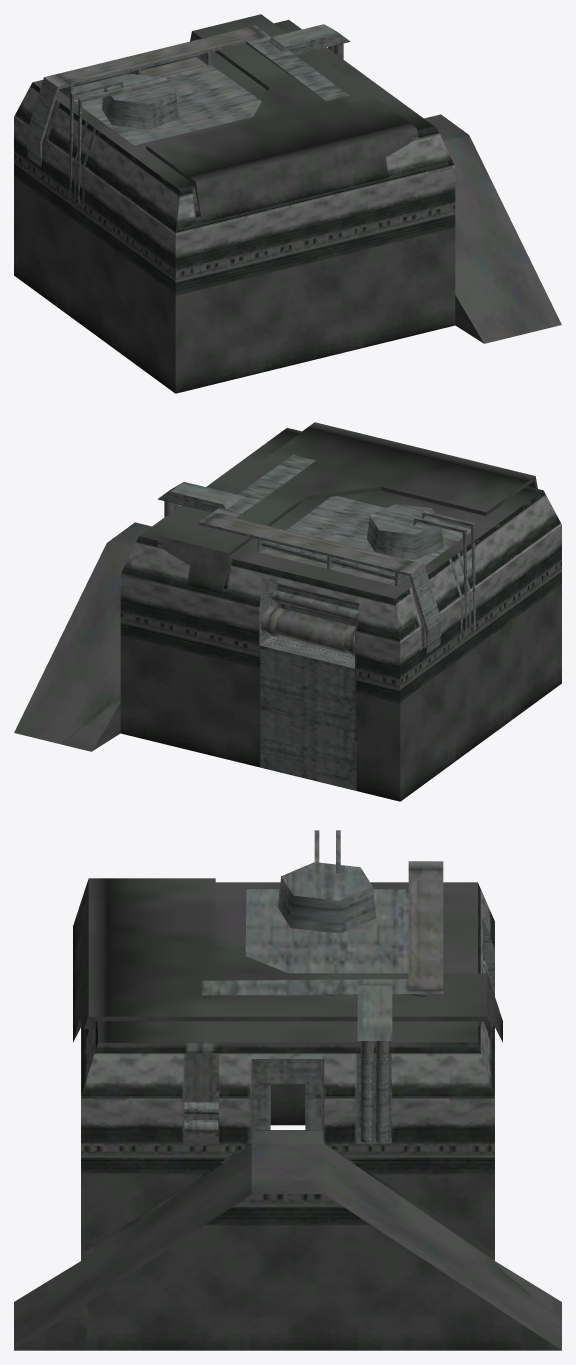
File: ply_corl_cloning_facility_s01_r0_mesh_l2.fbx
3 views of the same model, one above another, from view 1: azimuth 30°, elevation 25°; view 2: azimuth 150°, elevation 25°; view 3: azimuth 270°, elevation 25° (orthographic). The views are drawn at different scales.
Visible parts, largest first — view 1: mesh_node; view 2: mesh_node; view 3: mesh_node.
Part boxes in pixels (x1,y1,x2,y2): mesh_node: (14,14,561,393); mesh_node: (14,422,561,801); mesh_node: (14,830,561,1350).
Size of the model in its own units: 31.55 by 18.68 by 31.75.
Materials: 1 (1 with a texture image).
